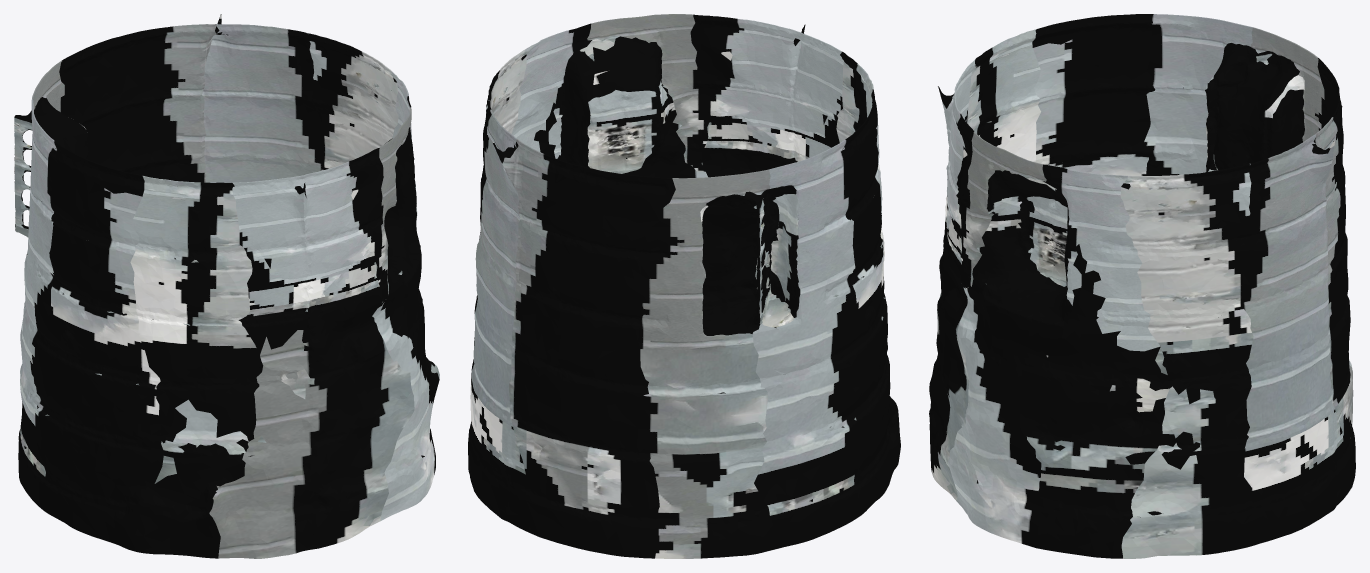
3 renders of one model, left to right at view 1: azimuth 30°, elevation 25°; view 2: azimuth 150°, elevation 25°; view 3: azimuth 270°, elevation 25°, orthographic. The views are drawn at different scales.
Parts seen in each view (by area): view 1: node_25; view 2: node_25; view 3: node_25.
Boxes of the visible parts, <box> form: node_25: <box>14,14,439,558</box>; node_25: <box>468,14,900,558</box>; node_25: <box>929,14,1355,558</box>.
Bounding box in the file's own units: 3.84 × 3.74 × 3.88.
1 material, 1 textured.
